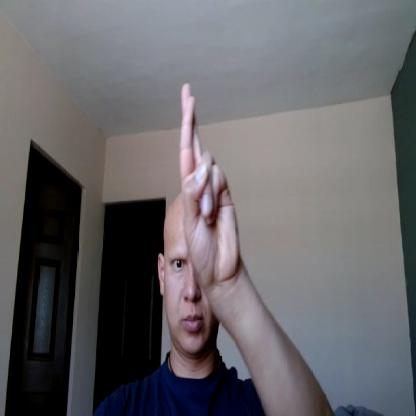R: (179, 76, 240, 285)
